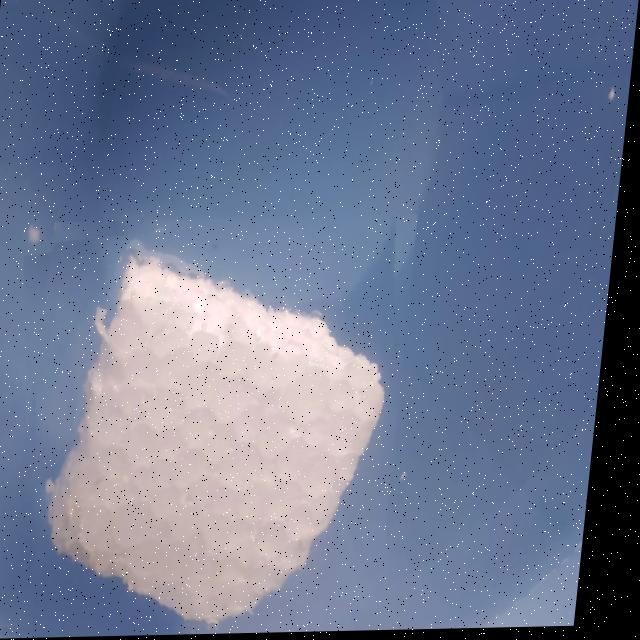thermocoal: (10, 216, 422, 639)
